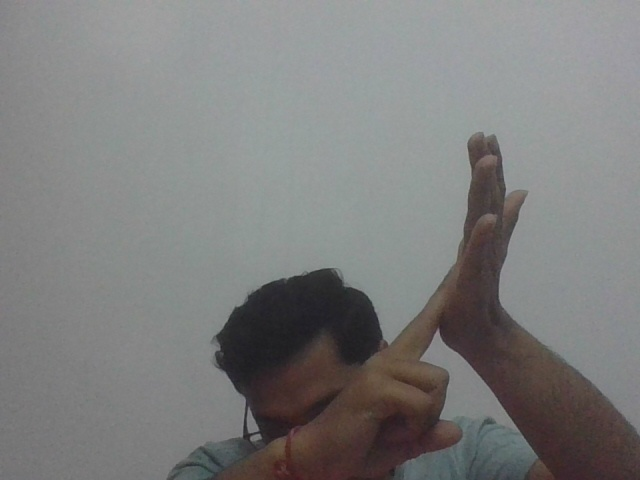N: (388, 128, 540, 429)
